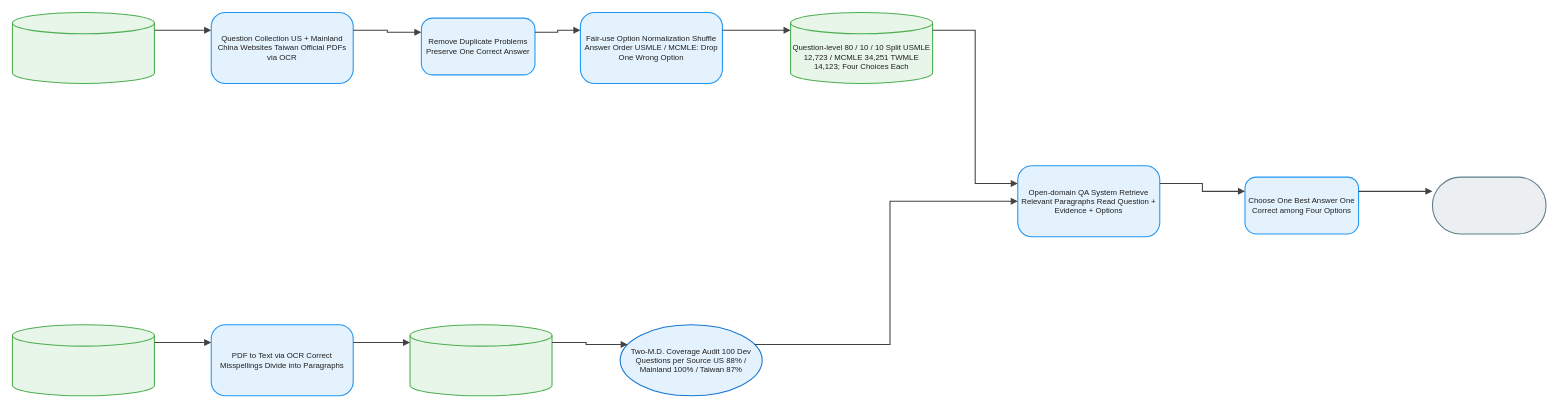
Image size: 1559x409. Some labels were removed from this diagram. The shapes that lost their labels are listed below. From the top down, each one's box as (x1, y1, x2, y2) in pixels, then its label:
(12, 12, 155, 84): Professional Medical Exams USMLE / MCMLE / TWMLE Real + Mock Questions
(1432, 176, 1546, 234): Accuracy Report Dev / Test per Language
(12, 324, 155, 396): Medical Textbooks 18 English for USMLE / TWMLE 33 Simplified Chinese for MCMLE
(409, 324, 552, 396): Retrieval Corpus English 231,581 Paragraphs Chinese 116,216 Paragraphs
